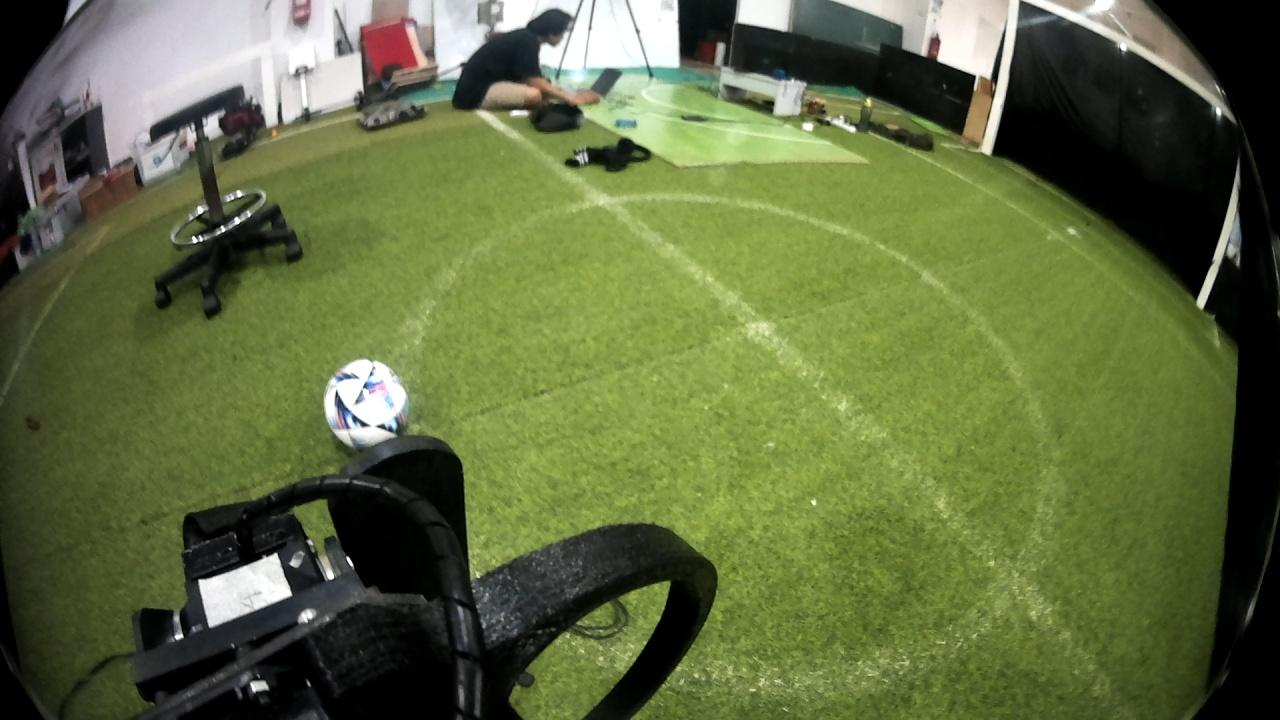ball: (321, 352, 417, 458)
